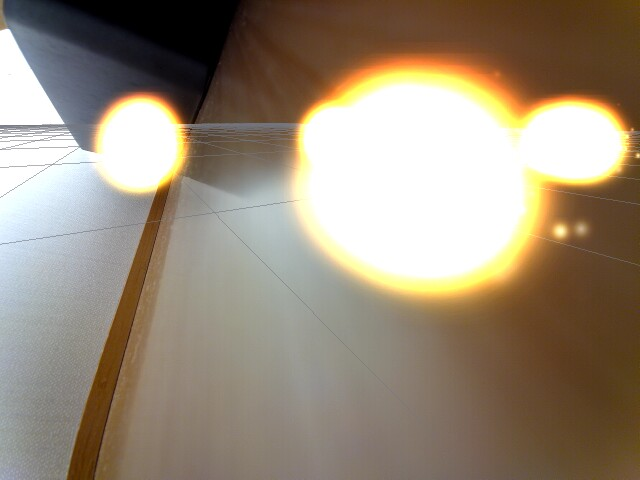firebig: (281, 61, 530, 298)
